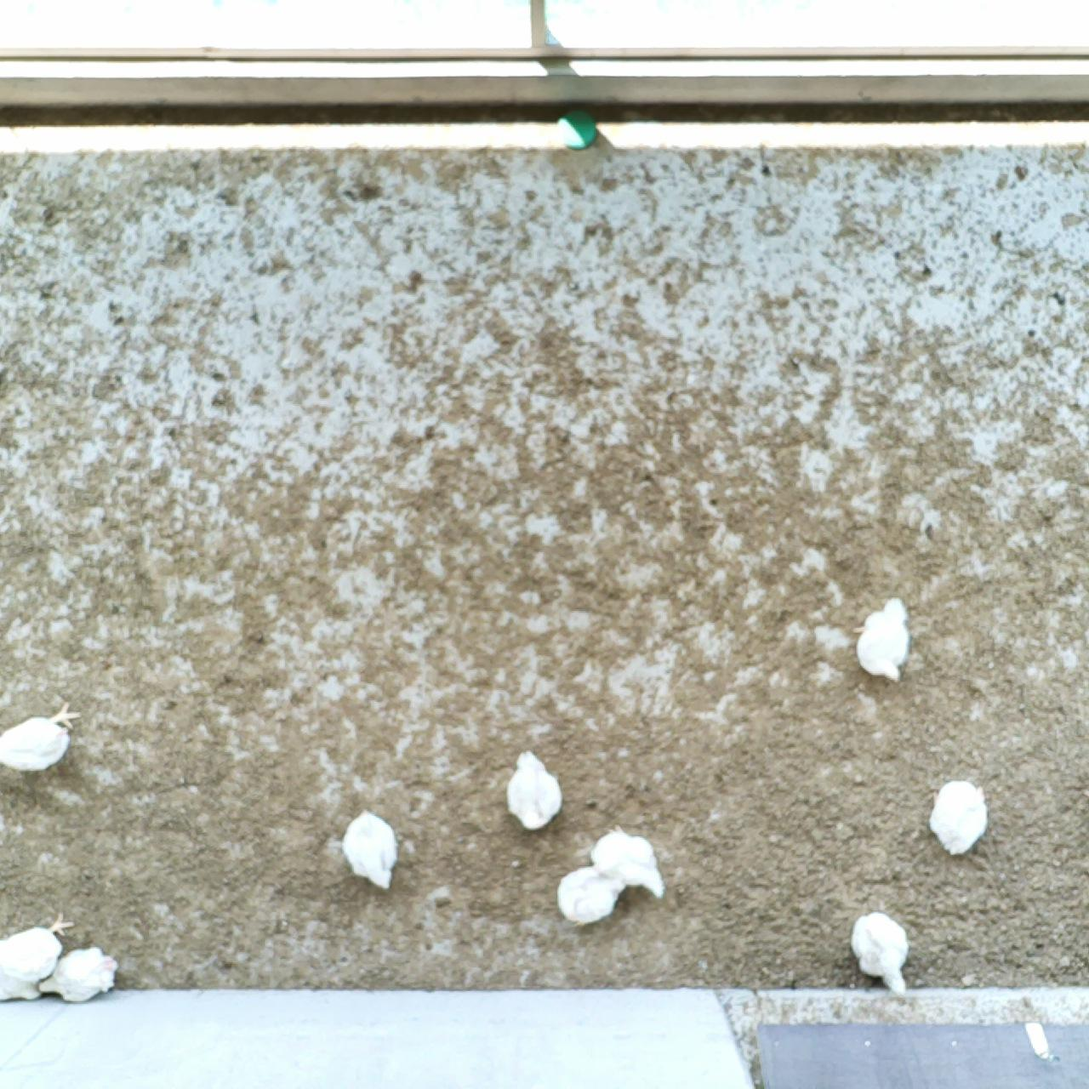chicken: (850, 593, 916, 689), (0, 699, 83, 775), (589, 823, 669, 901), (847, 907, 912, 997), (926, 775, 992, 861), (502, 748, 567, 834), (0, 909, 76, 980), (37, 944, 120, 1006), (340, 806, 399, 892), (556, 862, 629, 929), (0, 970, 43, 1002)
